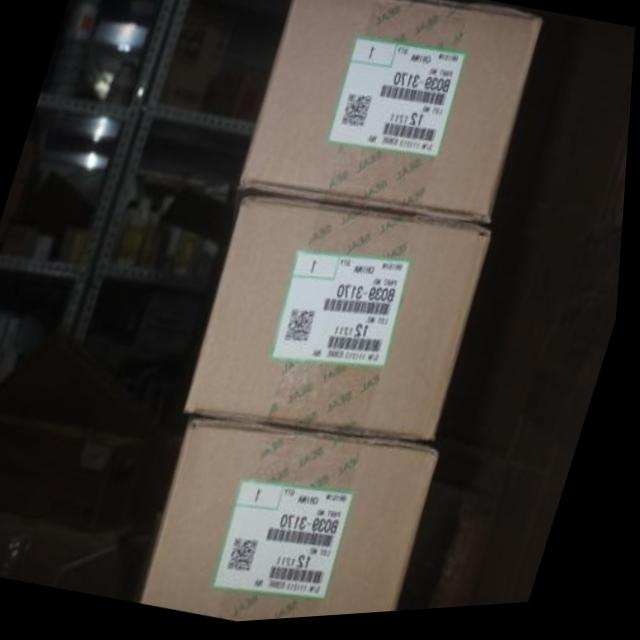box: (187, 199, 494, 447), (236, 0, 543, 230), (147, 418, 445, 625), (0, 412, 157, 533), (0, 508, 128, 597), (171, 26, 231, 79), (160, 66, 209, 113)
